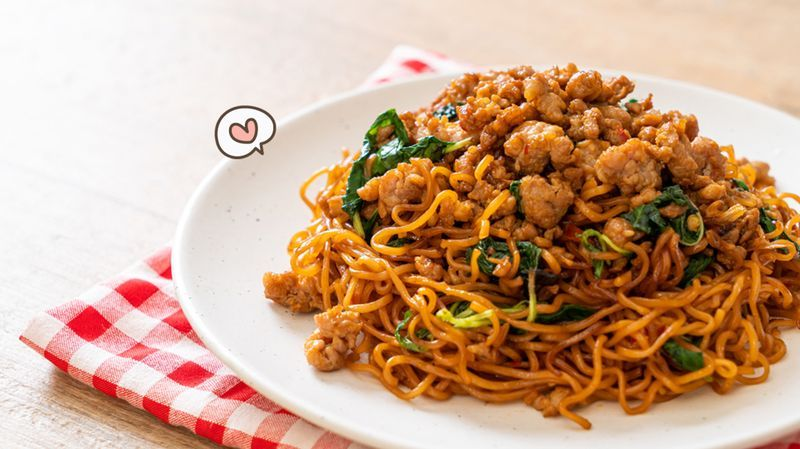Mie: (252, 72, 788, 417)
